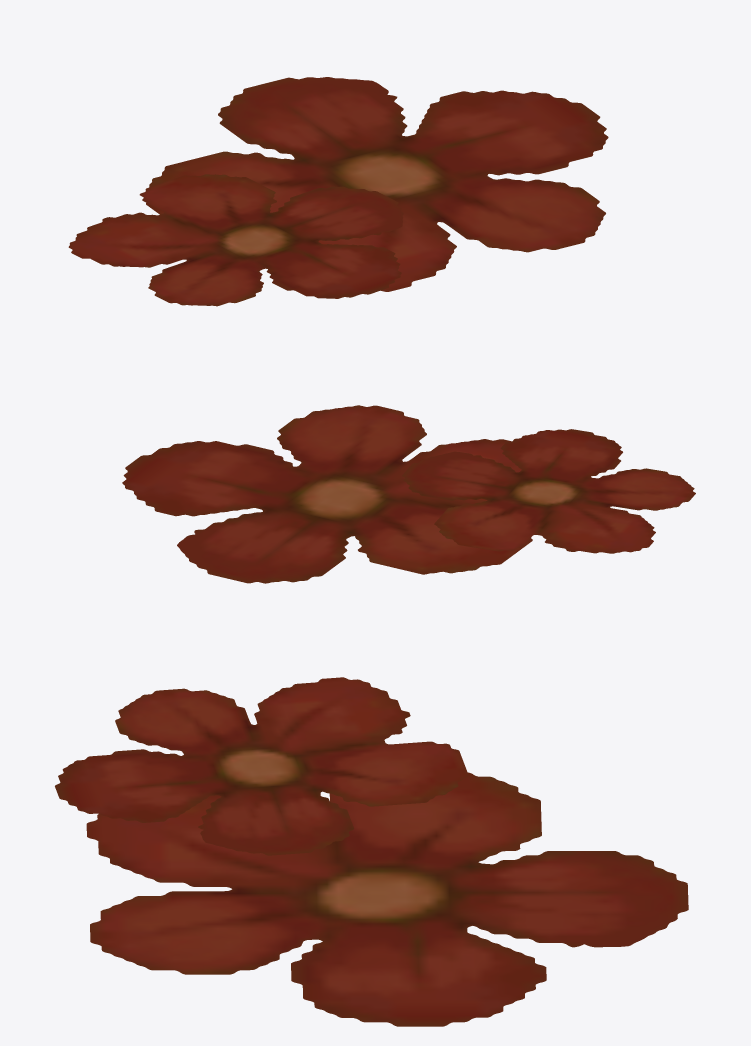
The model's file is plant_yewai_caocong06.FBX.
The picture shows the model from 3 angles, top to bottom: view 1: azimuth 30°, elevation 25°; view 2: azimuth 150°, elevation 25°; view 3: azimuth 270°, elevation 25°; orthographic projection. The views are drawn at different scales.
Visible parts, largest first — view 1: plant_yewai_caocong06; view 2: plant_yewai_caocong06; view 3: plant_yewai_caocong06.
Part boxes in pixels (left/top/right/bottom): plant_yewai_caocong06: left=68, top=77, right=608, bottom=306; plant_yewai_caocong06: left=122, top=405, right=695, bottom=583; plant_yewai_caocong06: left=55, top=677, right=688, bottom=1026.
Size of the model in its own units: 1.65 by 0.0409 by 1.45.
